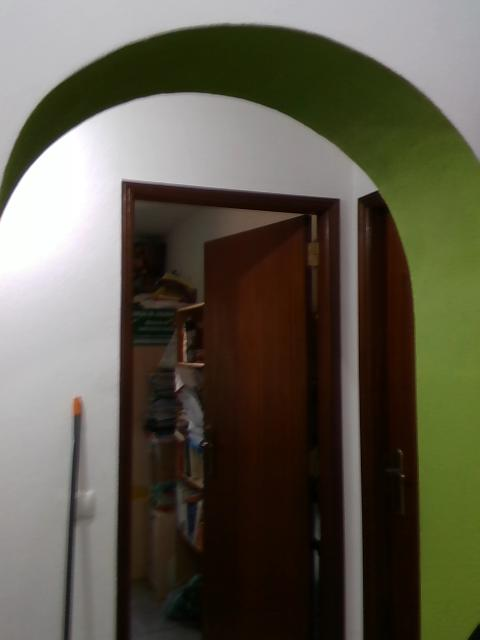open_door: (114, 177, 345, 639)
